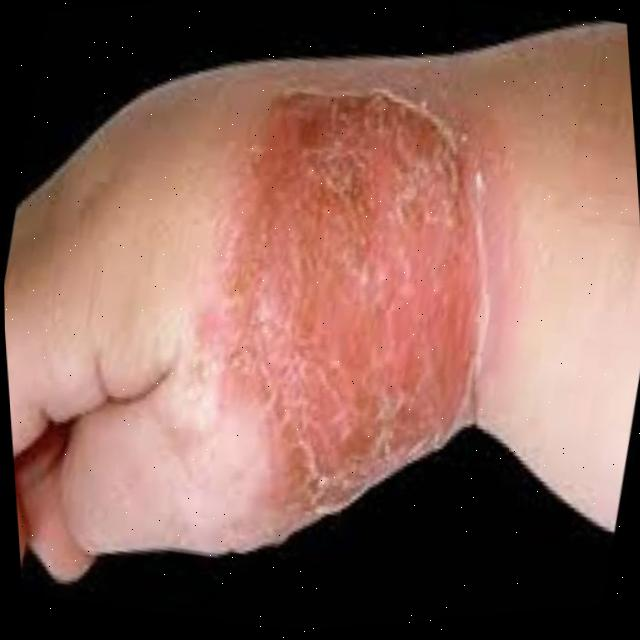Eczema: (268, 118, 480, 458)
